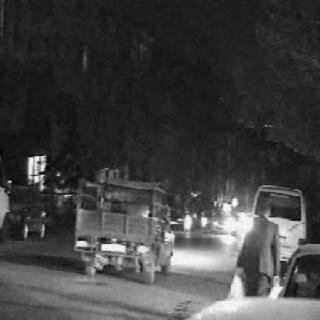other: (167, 246, 211, 268)
